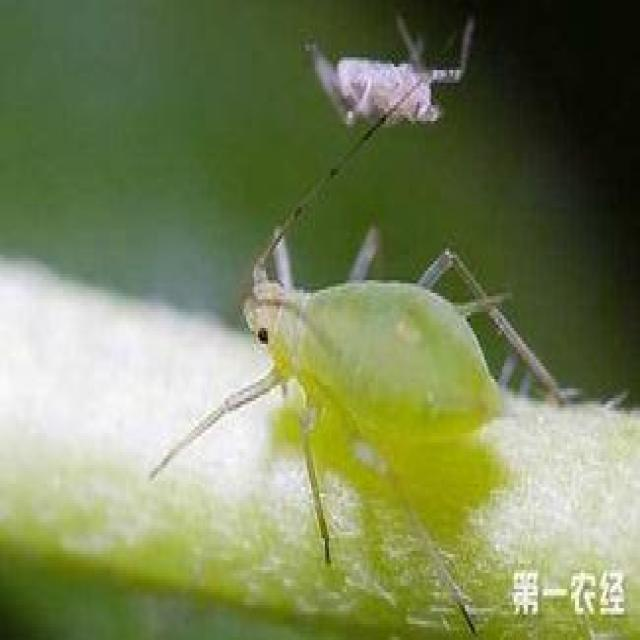Aphids: (123, 100, 590, 571)
